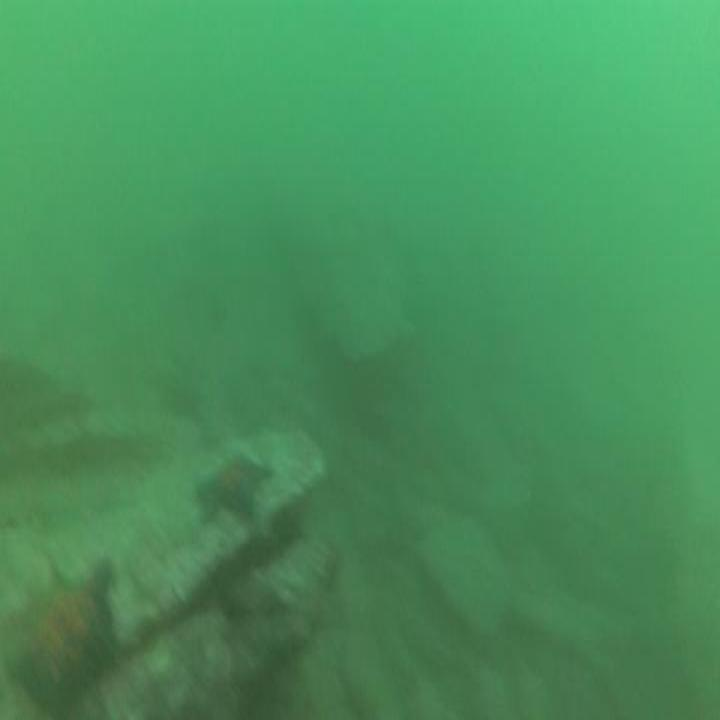starfish: (3, 549, 119, 720), (196, 450, 274, 528)
